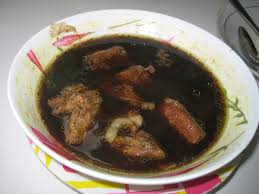Rawon: (32, 25, 235, 181)
